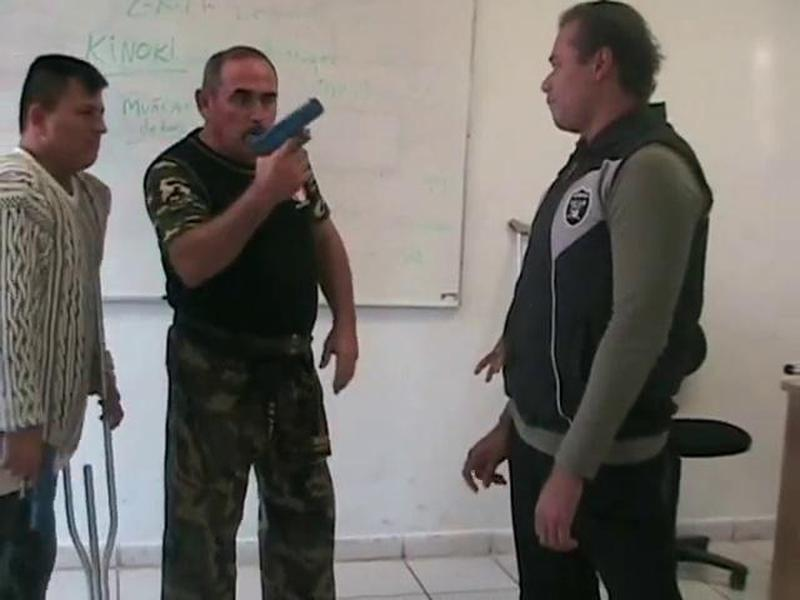Pistola: (233, 84, 333, 183)
